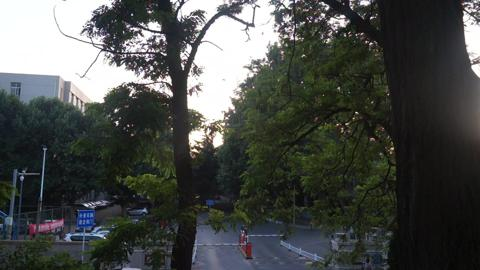UAV: (223, 79, 226, 81)
